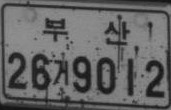0: (95, 55, 117, 95)
1: (121, 57, 139, 96)
2: (144, 58, 165, 97), (7, 50, 27, 90)
6: (30, 52, 51, 90)
9: (71, 55, 92, 93)
거: (52, 59, 69, 86)
부산_D: (42, 16, 130, 46)
